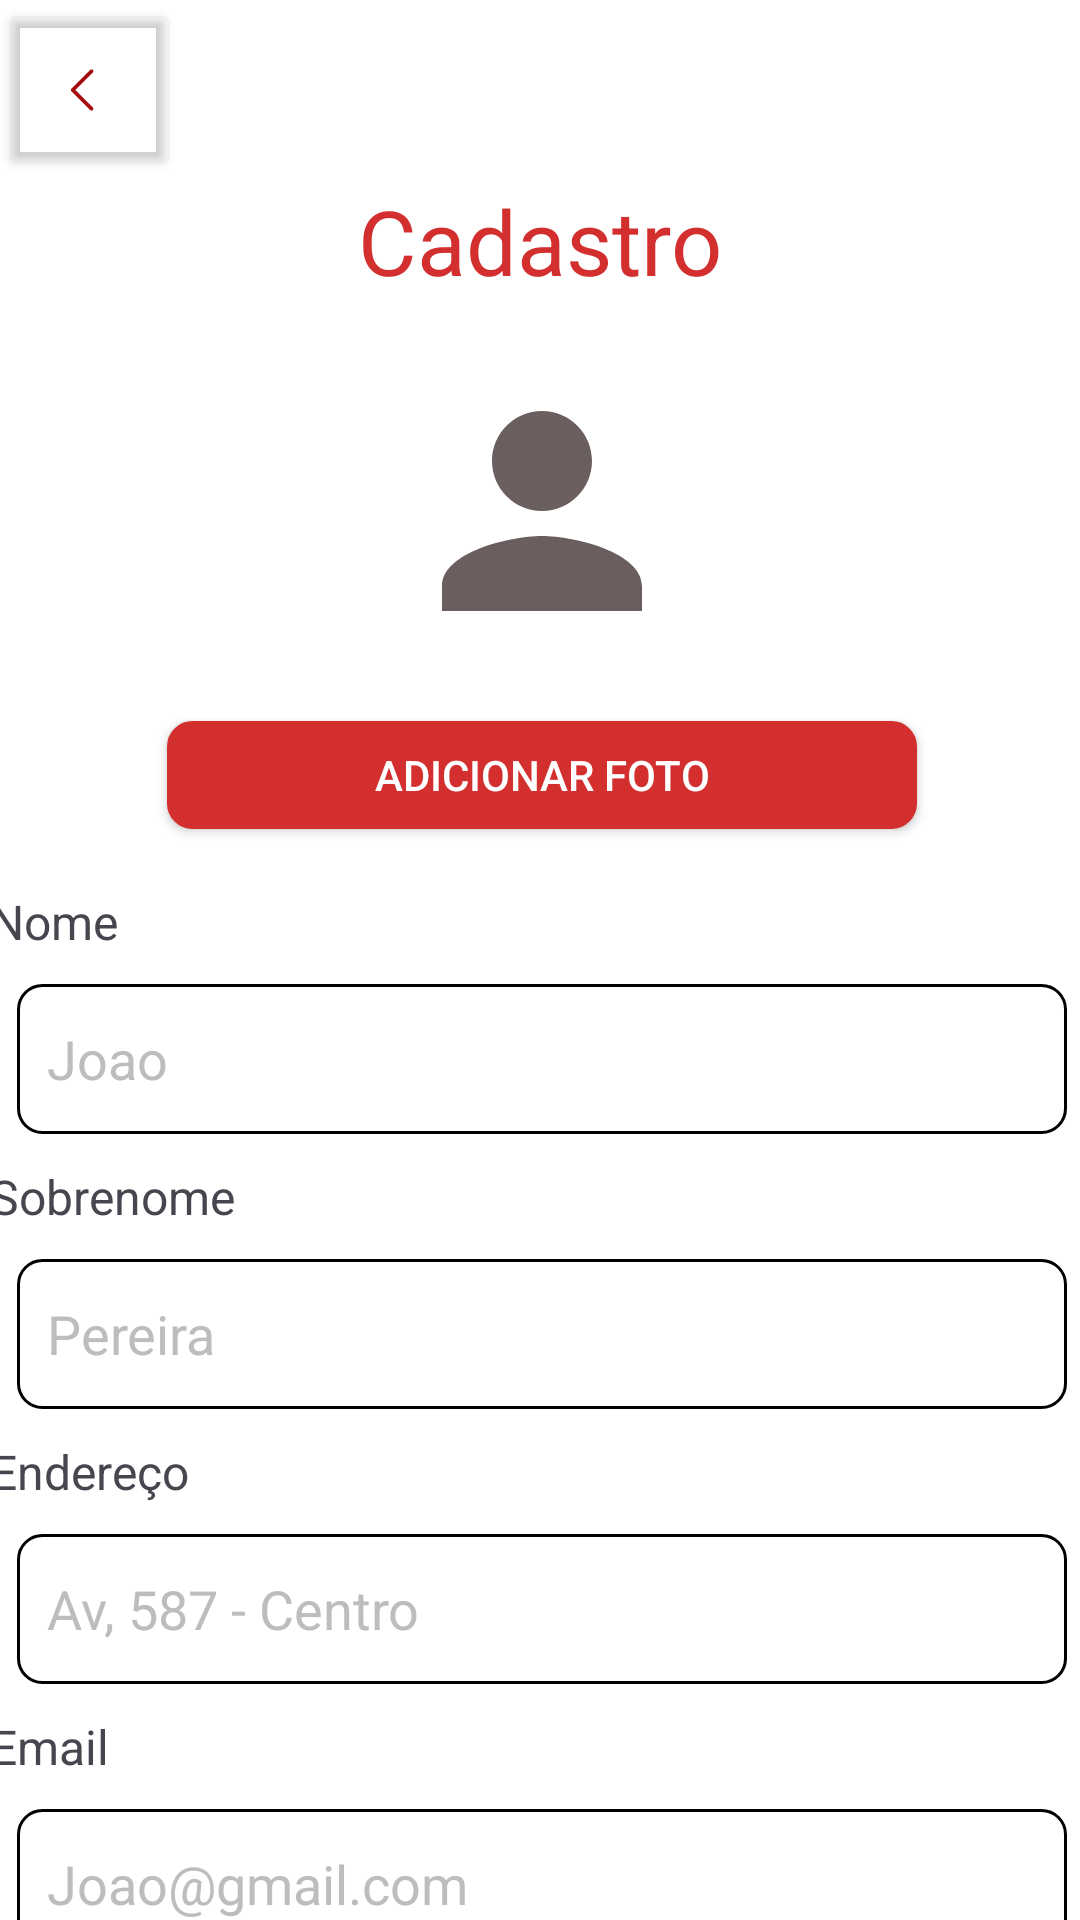

Named icons in this screenshot (1080w x 1920h) and their centers, (x,y):
person: (542,511)
